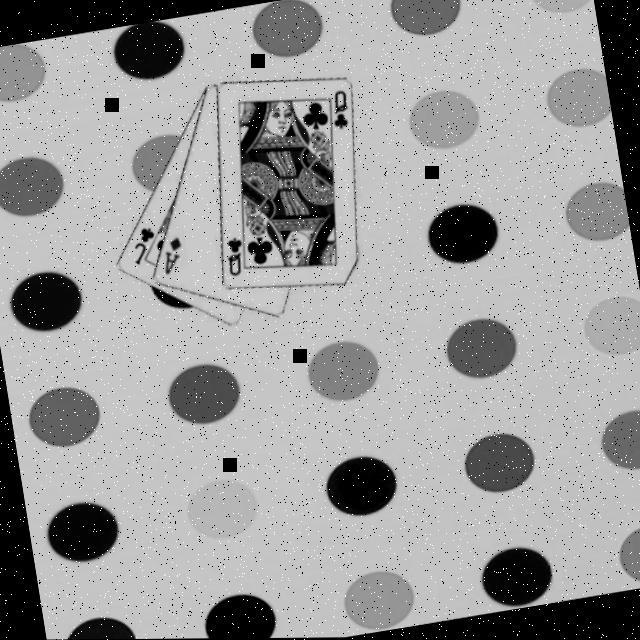AD: (158, 232, 190, 278)
JC: (128, 222, 162, 268)
QC: (326, 86, 356, 133), (222, 234, 250, 278)
